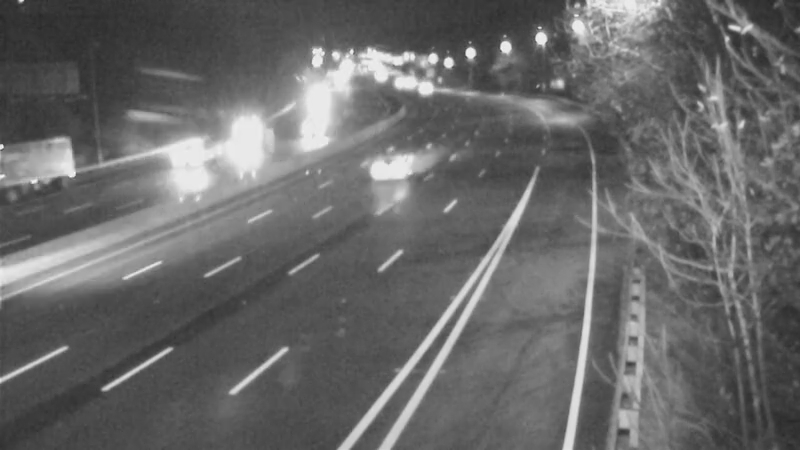vehicle: (359, 129, 439, 209), (144, 117, 224, 197), (1, 137, 78, 217), (397, 63, 447, 113), (224, 108, 274, 158), (288, 98, 338, 148)
